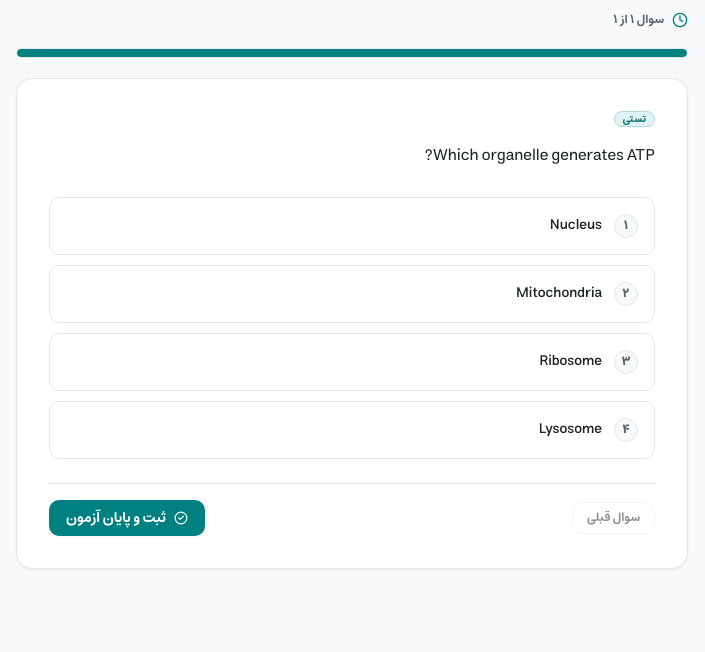
Test: PR6-9C UX Hardening: Quizzes › renders a recovery banner if quiz attempt submission fails
This screenshot has width=705, height=652.
Expected: the text "Which organelle generates ATP?" is shown, [424,141,655,169]
# Select choice
Click the button "۲ Mitochondria" at [559, 293], box [49,265,655,323]
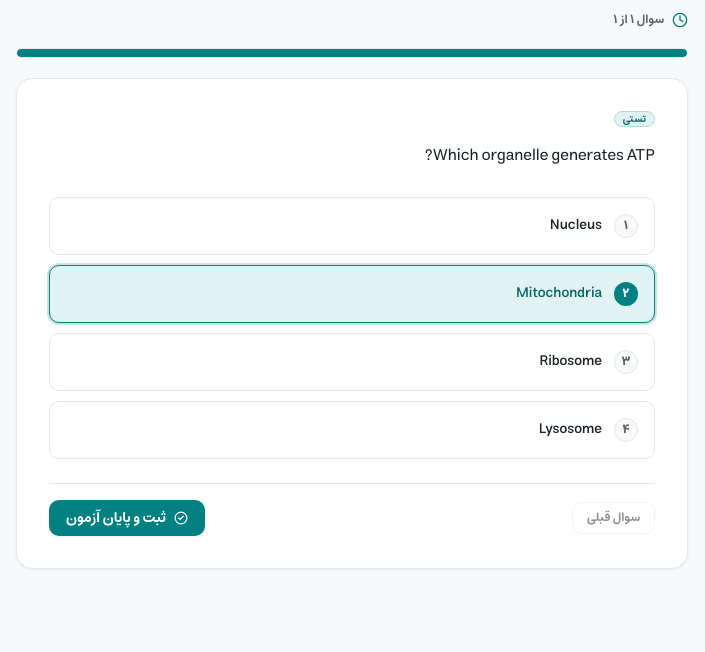
# Submit attempt
Click the button "ثبت و پایان آزمون" at [127, 518], box [49,500,205,536]
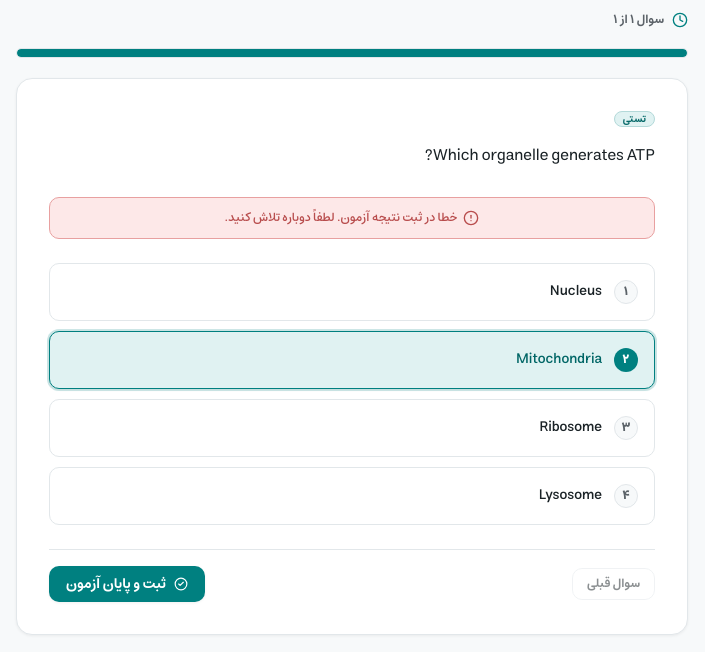
Expected: the text "خطا در ثبت نتیجه آزمون. لطفاً دوباره تلاش کنید." is shown, [225,210,457,226]
